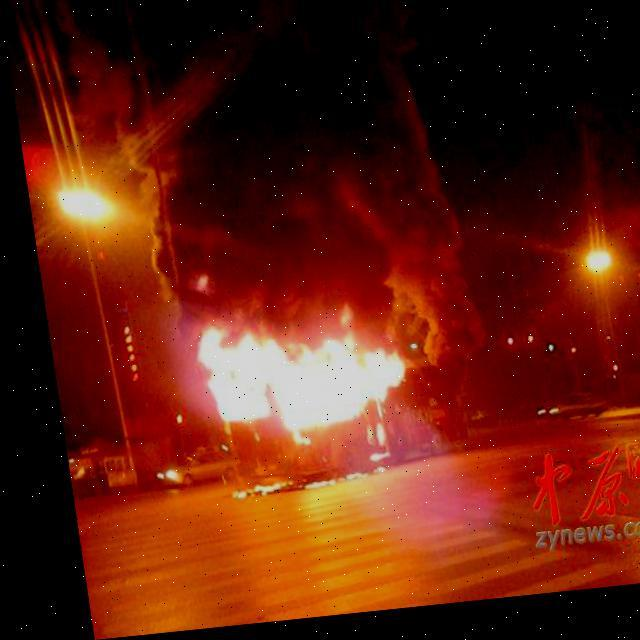Fire: (183, 303, 408, 445)
